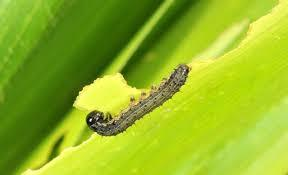fallarmy_worm: (75, 61, 192, 139)
